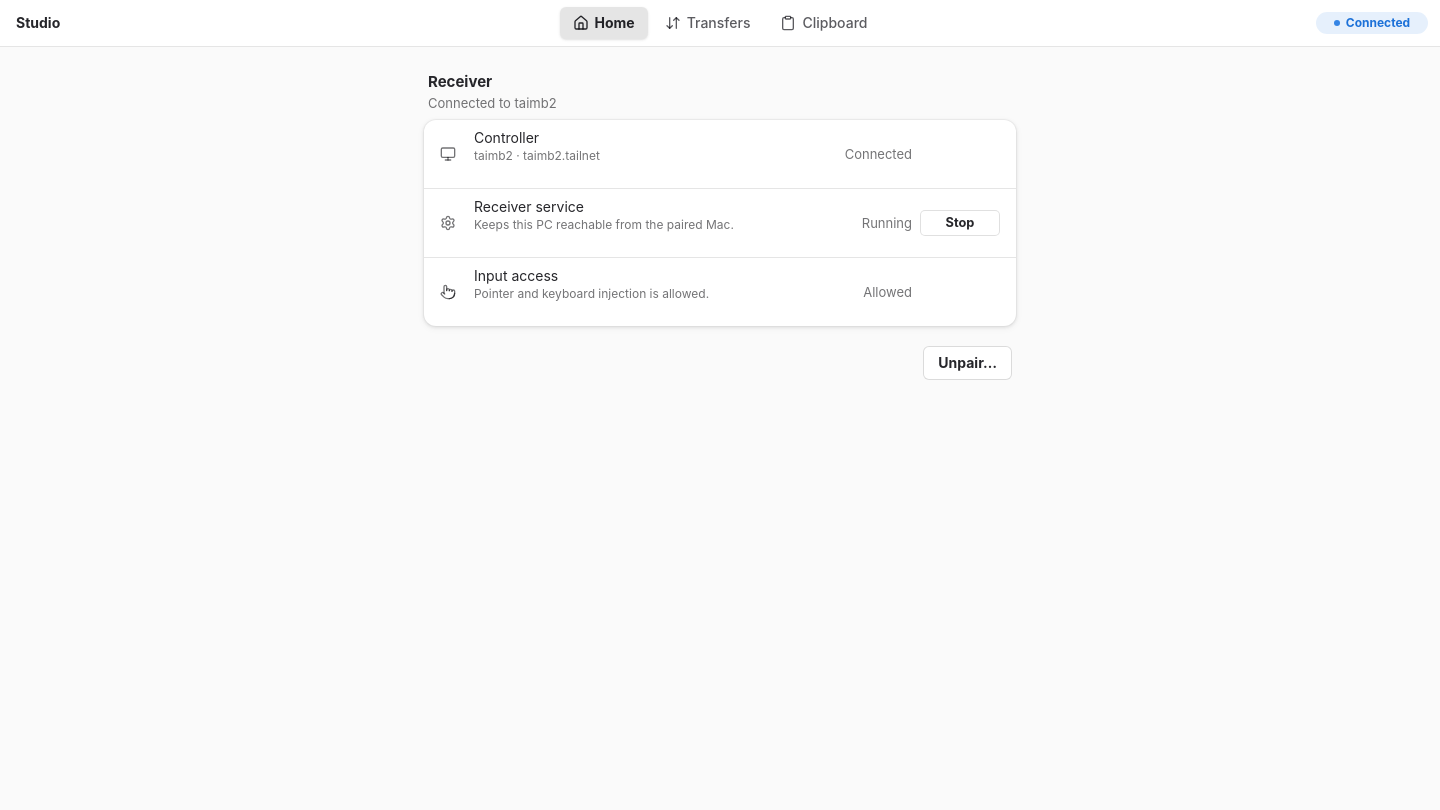
Shell › keeps Home local state when receiving updates
This screenshot has width=1440, height=810.
Click the button "Unpair…".
click(968, 363)  # box [923, 346, 1012, 380]
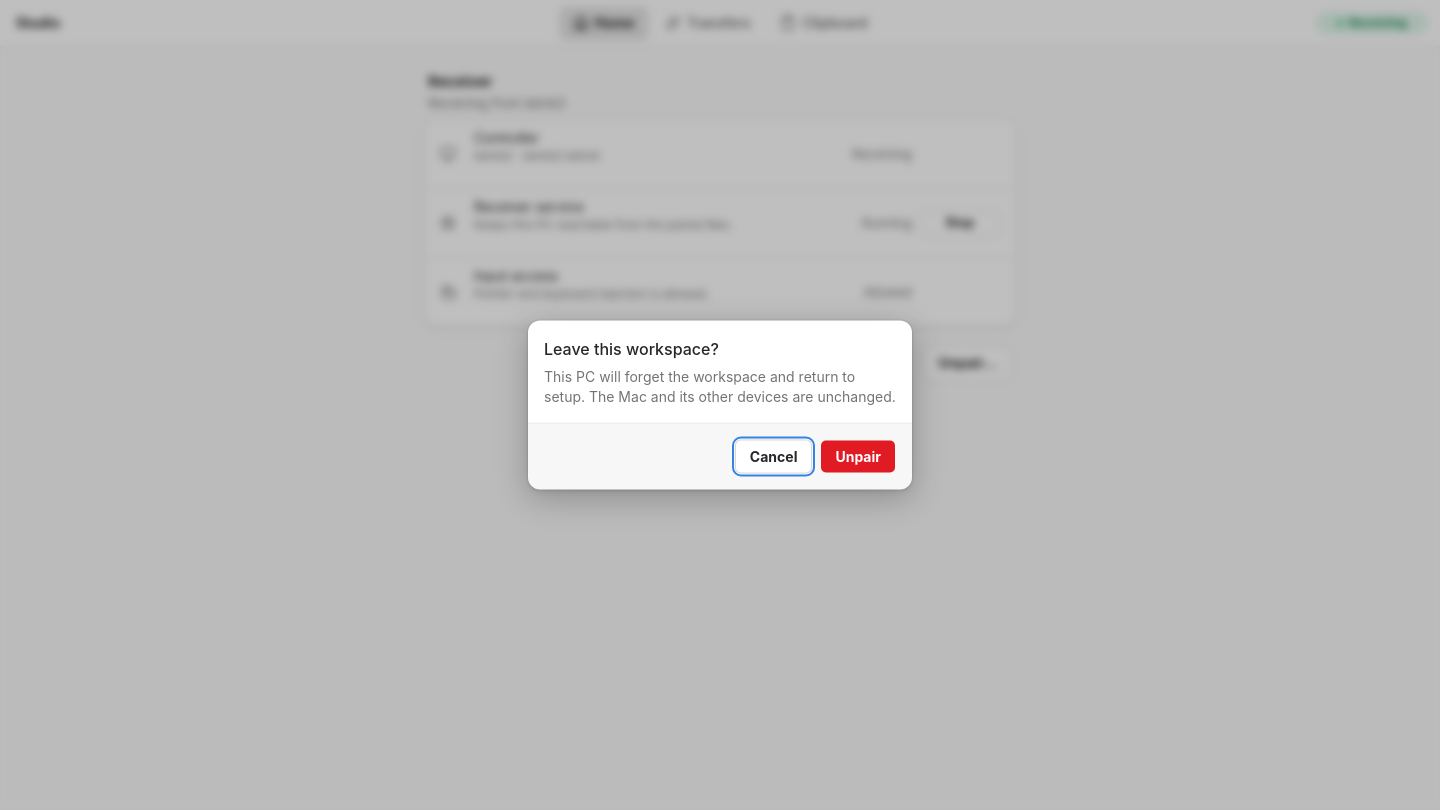
Expected: the dialog is shown, [528, 320, 912, 490]
Expected: the text "Receiving" is shown, [1316, 12, 1428, 34]
